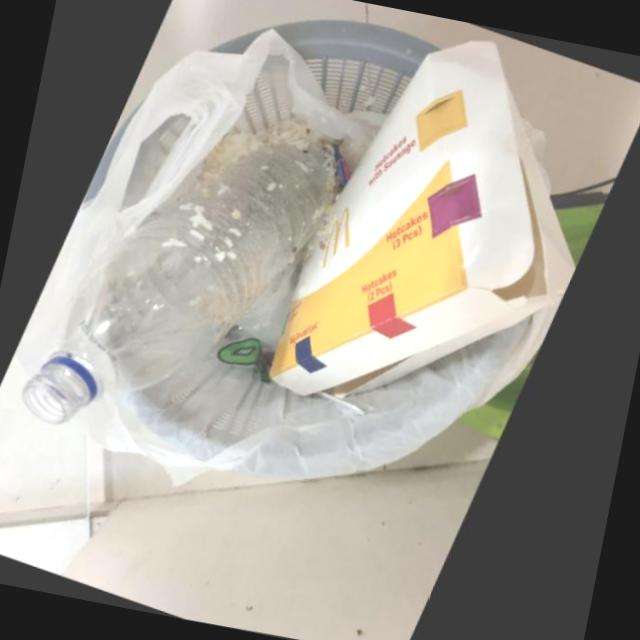carton: (275, 40, 580, 401)
chai_nhua_pet: (29, 152, 333, 426)
thuc_an_thua: (204, 122, 330, 178)
